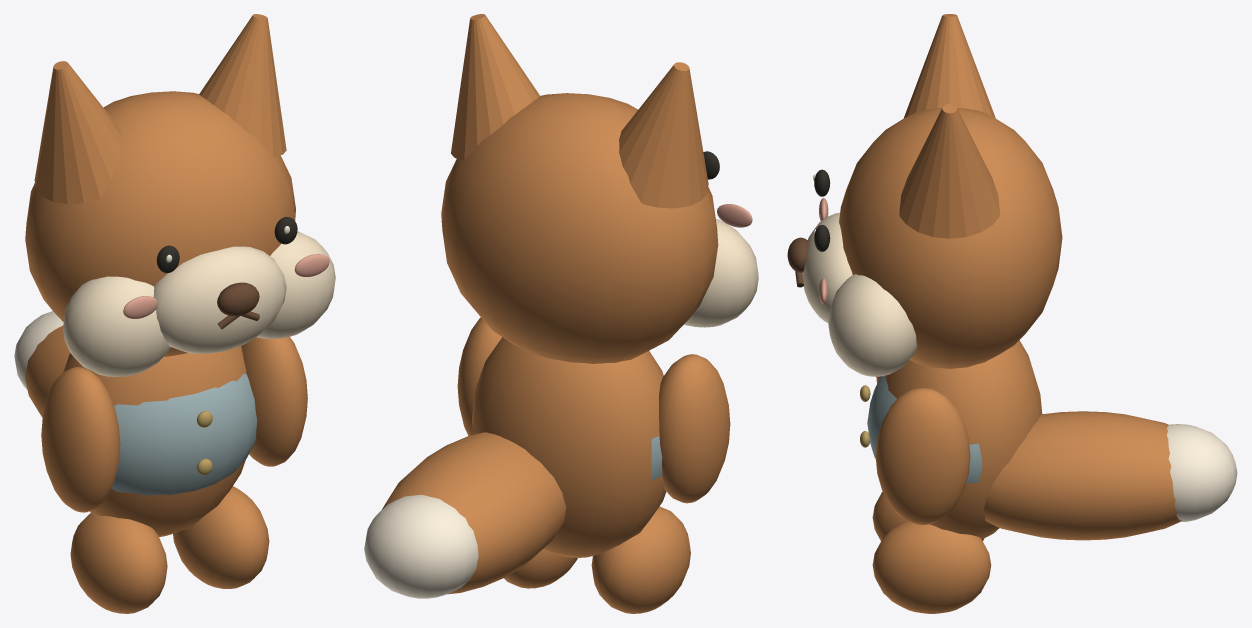
The model's file is fox.glb.
The picture shows the model from 3 angles, left to right: view 1: azimuth 30°, elevation 25°; view 2: azimuth 150°, elevation 25°; view 3: azimuth 270°, elevation 25°; orthographic projection. The views are drawn at different scales.
Parts seen in each view (by area): view 1: Head.002, Soft waistcoat.003, Muzzle.002, Body.003, arm_L.003, Pointed ear, Cream cheek, foot_L.003, Pointed ear.001, foot_R.003, arm_R.003, Cream cheek.001 (+7 smaller); view 2: Head.002, Body.003, Tail.001, Tail.002, Pointed ear, arm_L.003, foot_L.003, Pointed ear.001, Cream cheek, arm_R.003, foot_R.003, Blush.006; view 3: Head.002, Tail.001, Body.003, arm_R.003, Pointed ear.001, foot_R.003, Cream cheek.001, Tail.002, Pointed ear, Muzzle.002, Soft waistcoat.003, foot_L.003.
Boxes of the visible parts, box(x1,y1,x2,y2) form: Head.002: box(25, 91, 295, 356); Soft waistcoat.003: box(111, 373, 257, 495); Muzzle.002: box(153, 246, 286, 353); Body.003: box(63, 346, 246, 536); arm_L.003: box(41, 367, 120, 512); Pointed ear: box(34, 61, 122, 203); Cream cheek: box(63, 276, 171, 376); foot_L.003: box(70, 513, 167, 613); Pointed ear.001: box(199, 14, 286, 156); foot_R.003: box(173, 486, 269, 588); arm_R.003: box(241, 337, 307, 466); Cream cheek.001: box(256, 231, 335, 338); Head.002: box(441, 93, 718, 363); Body.003: box(472, 337, 666, 557); Tail.001: box(382, 432, 566, 594); Tail.002: box(364, 495, 478, 598); Pointed ear: box(619, 62, 708, 208); arm_L.003: box(659, 354, 730, 503); foot_L.003: box(591, 506, 690, 613); Pointed ear.001: box(451, 14, 540, 160); Cream cheek: box(684, 219, 758, 327); arm_R.003: box(457, 317, 501, 435); foot_R.003: box(504, 549, 577, 588); Blush.006: box(717, 204, 752, 227); Head.002: box(839, 108, 1062, 368); Tail.001: box(984, 411, 1181, 540); Body.003: box(885, 340, 1042, 538); arm_R.003: box(875, 387, 970, 524); Pointed ear.001: box(899, 104, 999, 238); foot_R.003: box(872, 520, 991, 613); Cream cheek.001: box(828, 274, 916, 376); Tail.002: box(1167, 424, 1237, 522); Pointed ear: box(903, 14, 995, 118); Muzzle.002: box(802, 212, 852, 322); Soft waistcoat.003: box(867, 376, 982, 483); foot_L.003: box(872, 491, 984, 540).
Size of the model in its own units: 0.98 by 1.96 by 1.52.
